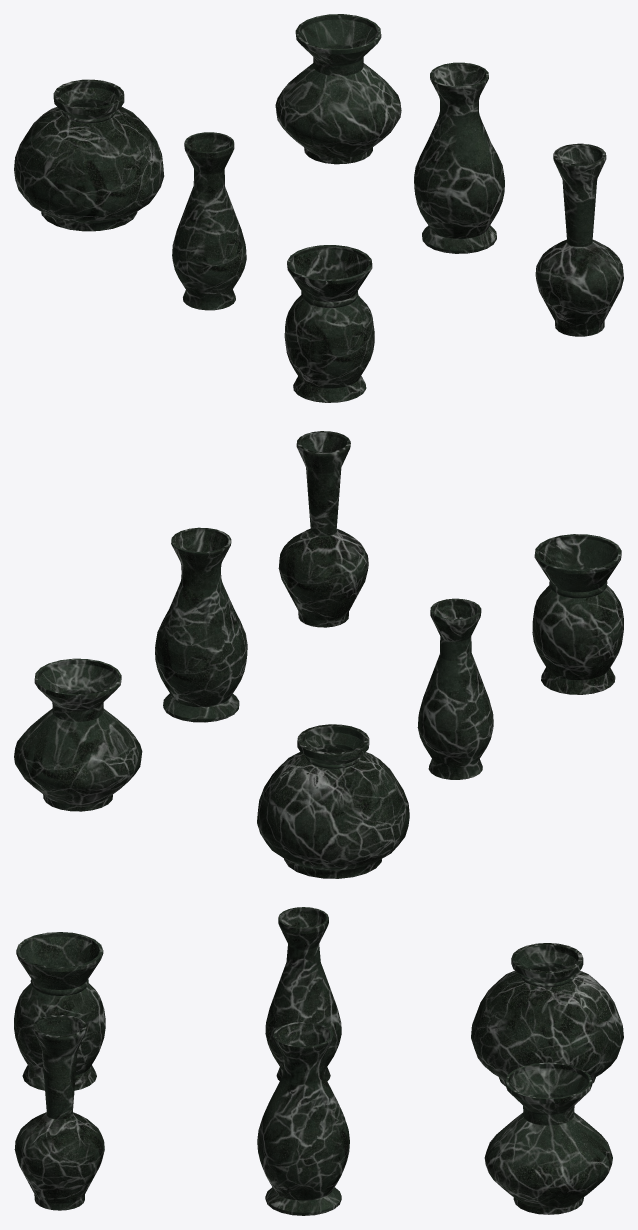
3 views of the same model, one above another, from view 1: azimuth 30°, elevation 25°; view 2: azimuth 150°, elevation 25°; view 3: azimuth 270°, elevation 25° (orthographic).
Parts seen in each view (by area): view 1: Vase6_low, Vase3_low, Vase2_low, Vase4_low, Vase1_low, Vase5_low; view 2: Vase6_low, Vase3_low, Vase2_low, Vase4_low, Vase1_low, Vase5_low; view 3: Vase6_low, Vase3_low, Vase2_low, Vase1_low, Vase4_low, Vase5_low.
Boxes of the visible parts, x1,y1,x2,y2 form: Vase6_low: (14, 79, 164, 231); Vase3_low: (275, 14, 401, 164); Vase2_low: (414, 62, 504, 253); Vase4_low: (284, 245, 374, 402); Vase1_low: (535, 143, 623, 336); Vase5_low: (172, 132, 246, 310); Vase6_low: (257, 724, 409, 878); Vase3_low: (14, 658, 142, 811); Vase2_low: (155, 527, 247, 722); Vase4_low: (532, 534, 623, 694); Vase1_low: (278, 431, 368, 627); Vase5_low: (417, 598, 493, 779); Vase6_low: (471, 943, 623, 1086); Vase3_low: (484, 1062, 612, 1214); Vase2_low: (257, 1022, 349, 1215); Vase1_low: (14, 1015, 104, 1210); Vase4_low: (14, 932, 105, 1090); Vase5_low: (265, 907, 341, 1080).
Size of the model in its own units: 1.42 by 0.6305 by 2.
Materials: 1 (1 with a texture image).
